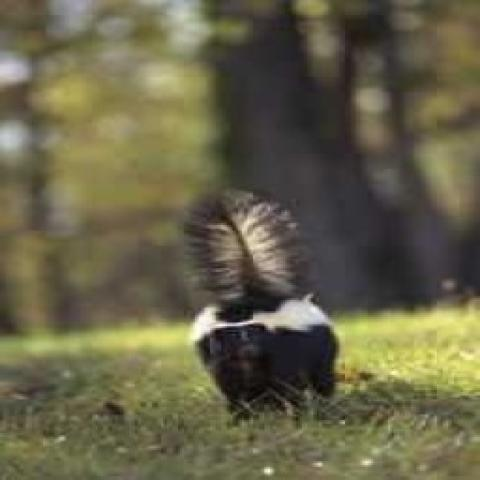small_animal: (178, 182, 343, 422)
